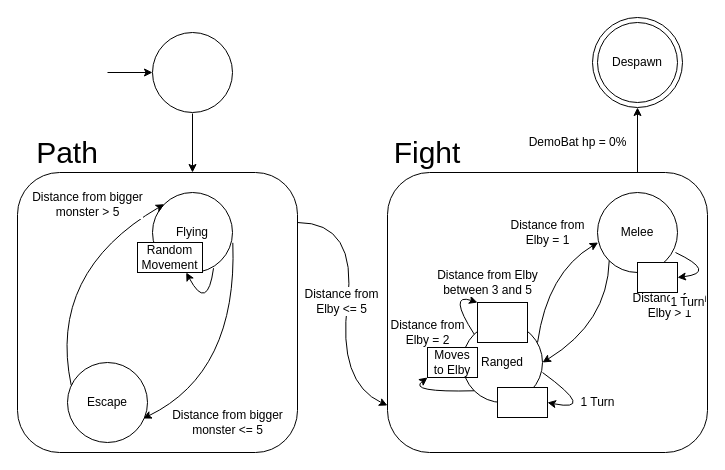
Image size: 725x470. Some labels were removed from this diagram. Here are the shapes that lost their labels. From the top down, the centre of each, then its label:
At (192,72): "Spawn".
At (657,277): "Melee Attack".
At (502,322): "Moves away from Elby".
At (522,402): "Ranged Attack".
